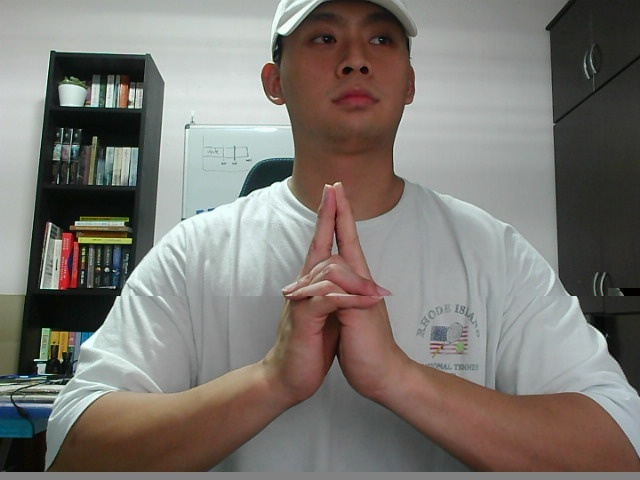Tiger: (257, 167, 429, 417)
